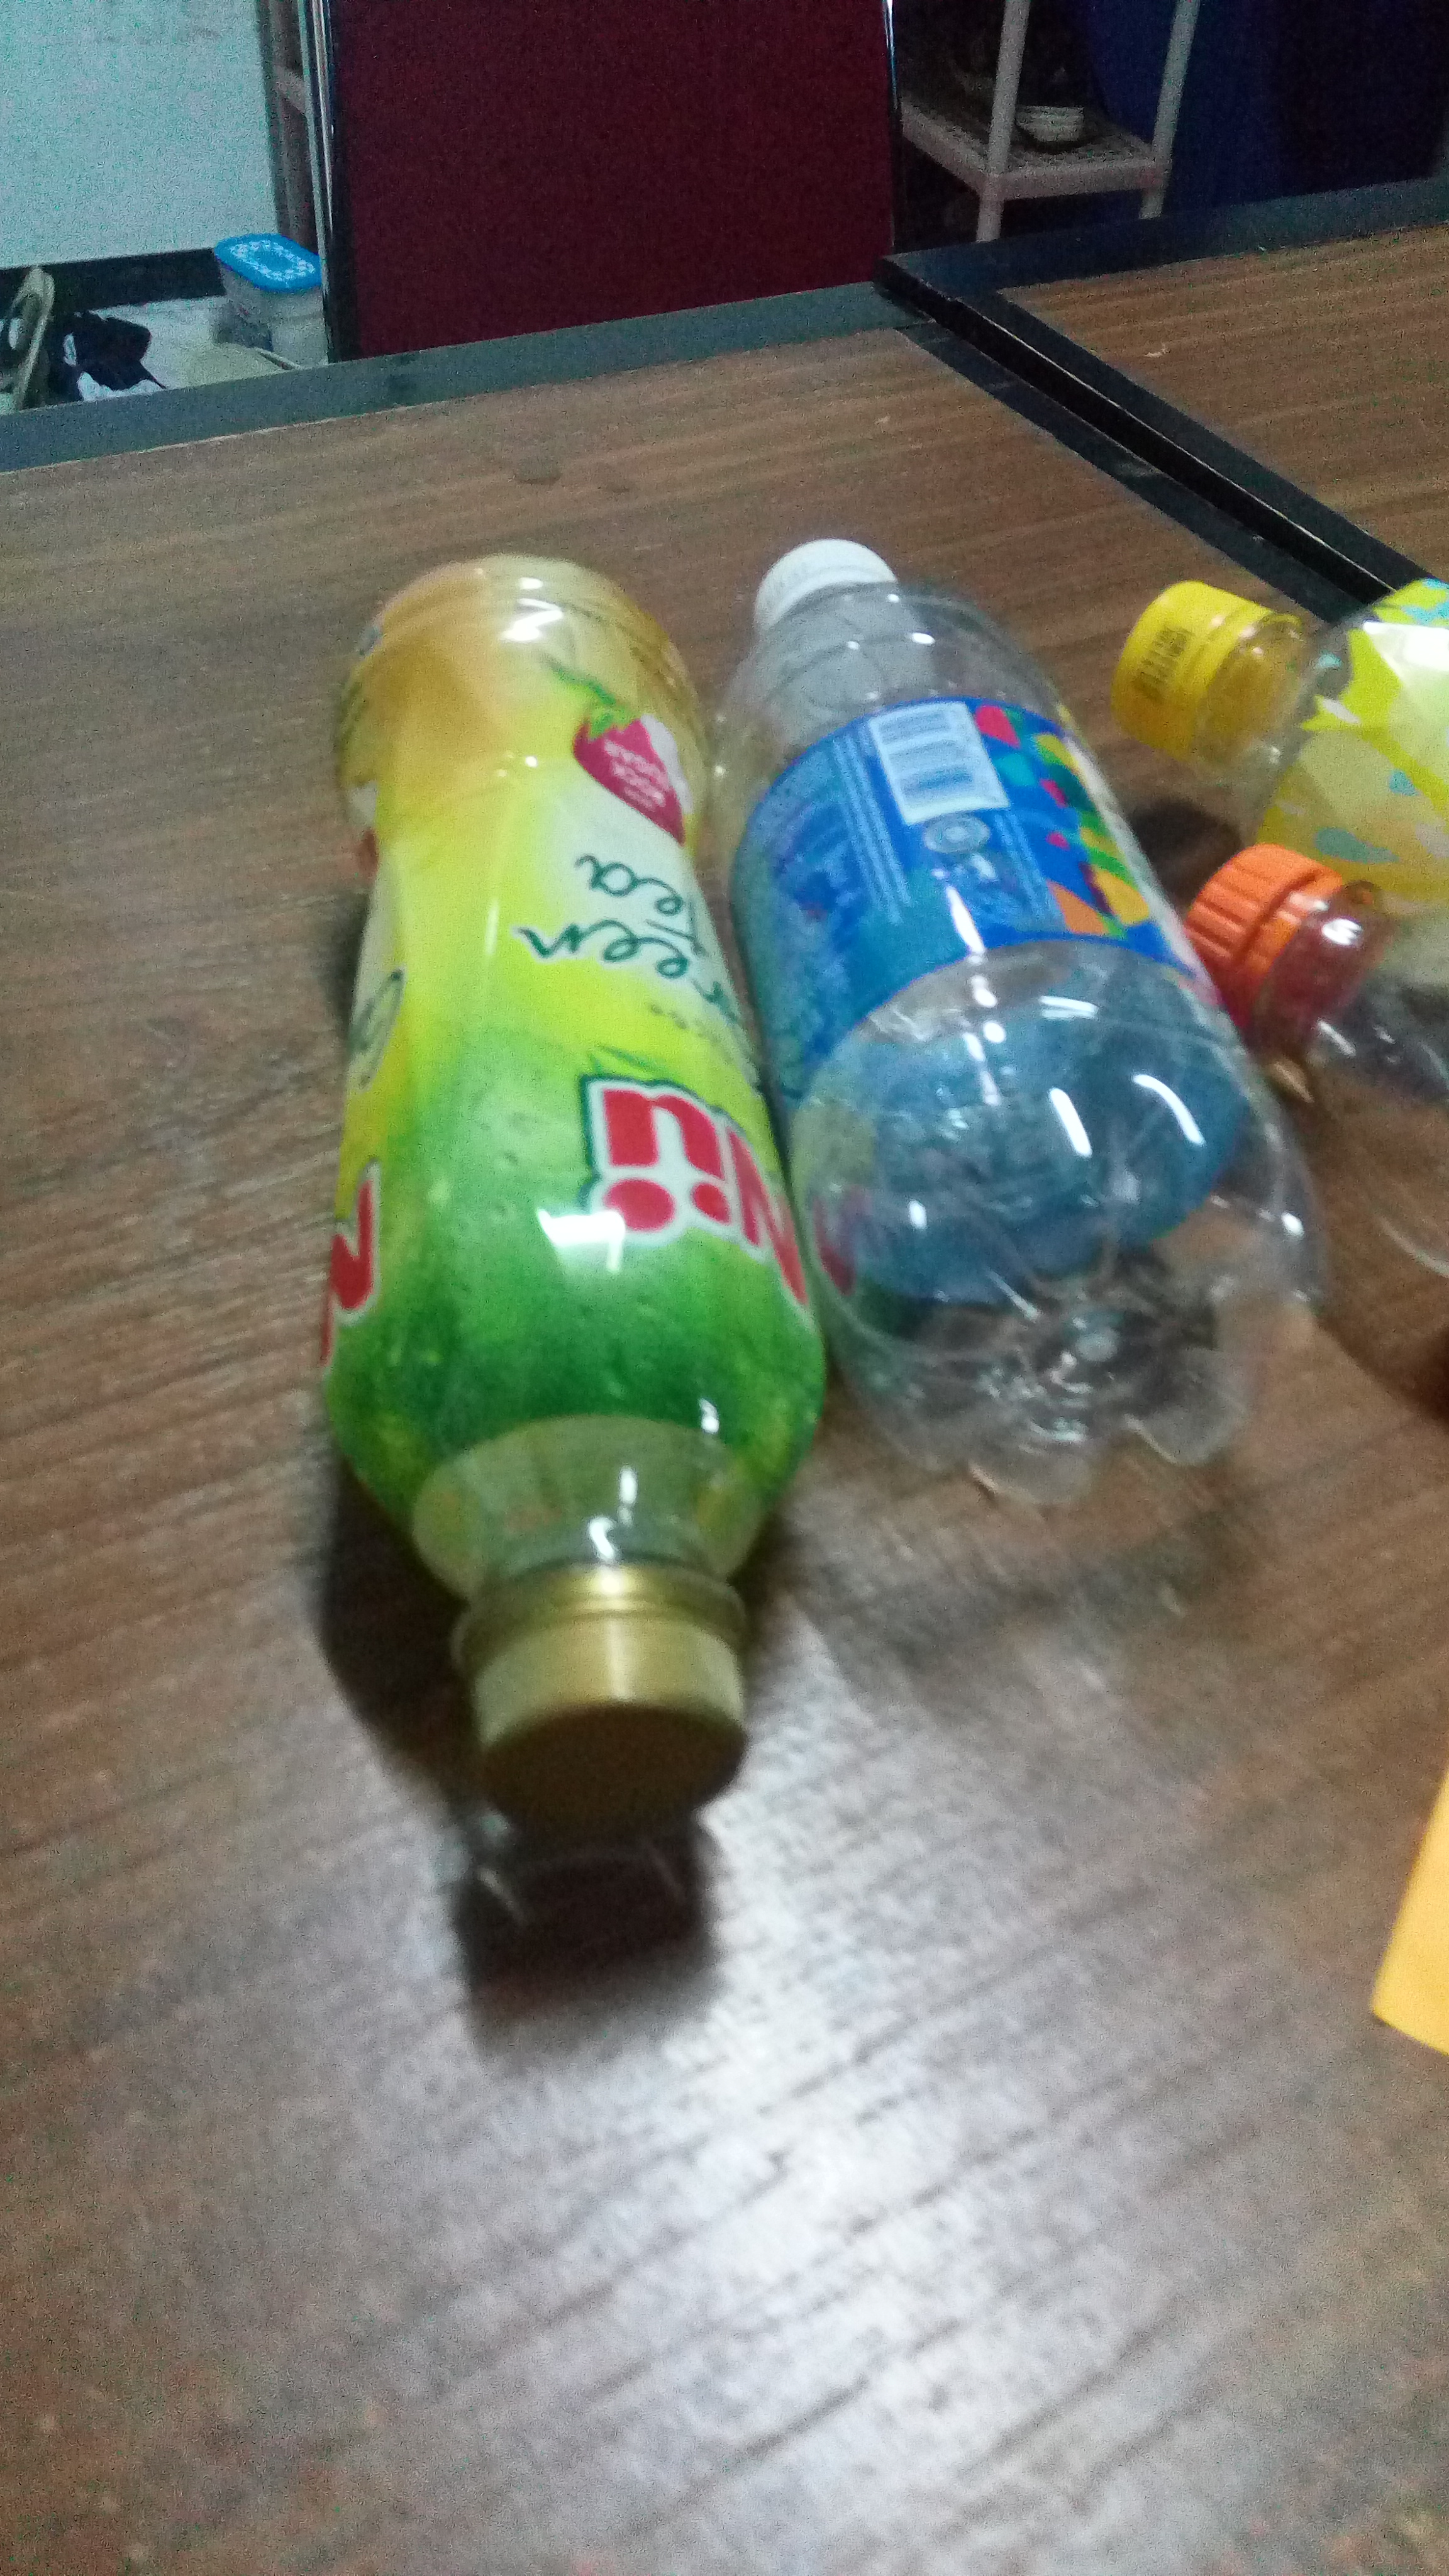botol: (311, 529, 833, 2012), (688, 479, 1345, 1583)
